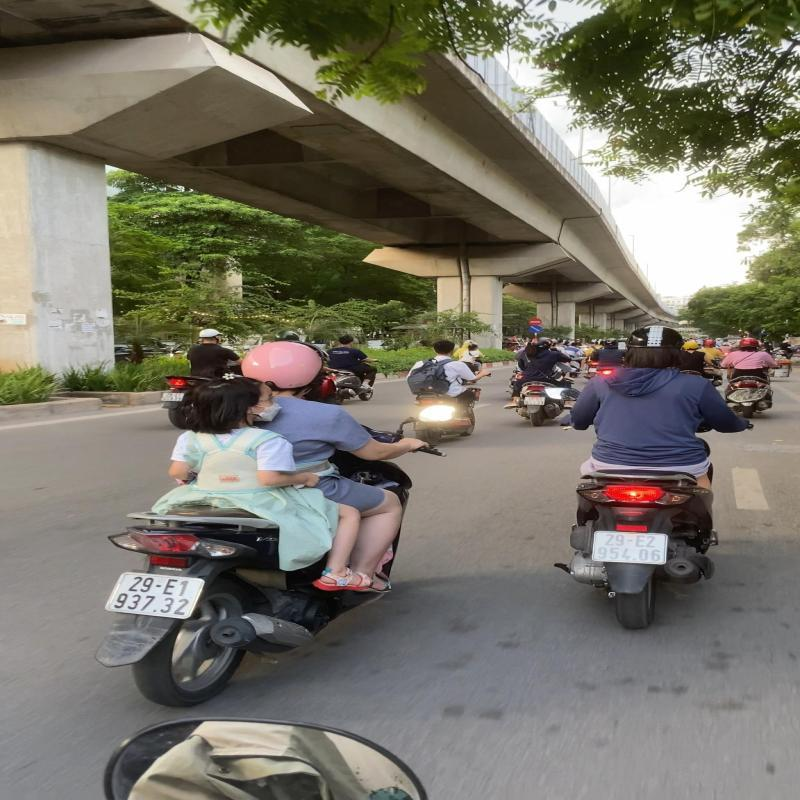helmet: (236, 336, 332, 390)
licenseplate: (98, 566, 208, 622)
motorcyclist: (86, 330, 460, 709)
nohelmet: (179, 370, 289, 431)
